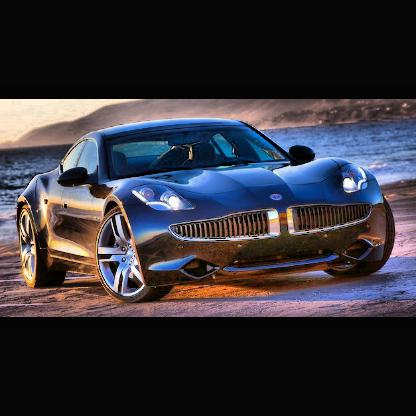Fisker Karma Sedan 2012: (16, 118, 398, 305)
